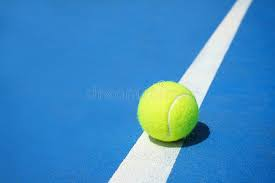tennis_ball: (136, 80, 199, 144)
